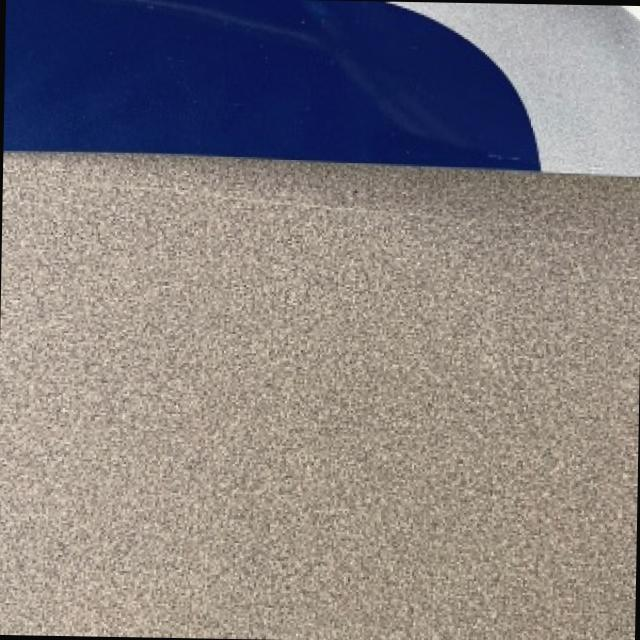healthy: (0, 2, 640, 640), (5, 0, 640, 170)
